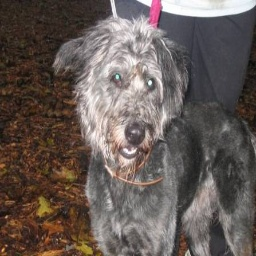dog: (51, 20, 253, 256)
